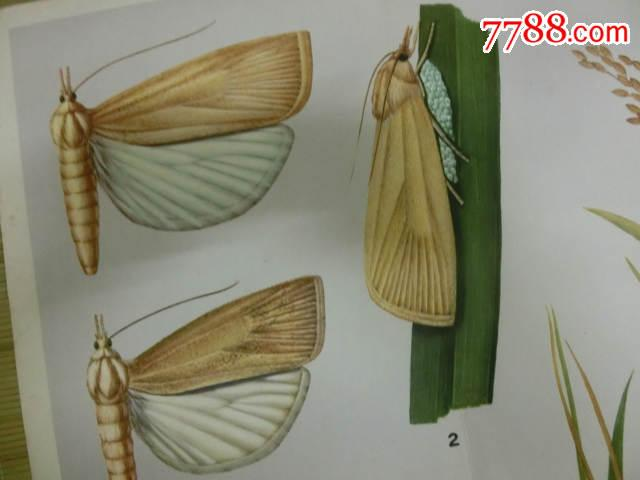Crambidae: (45, 15, 317, 279), (80, 284, 326, 477), (348, 13, 464, 329)
